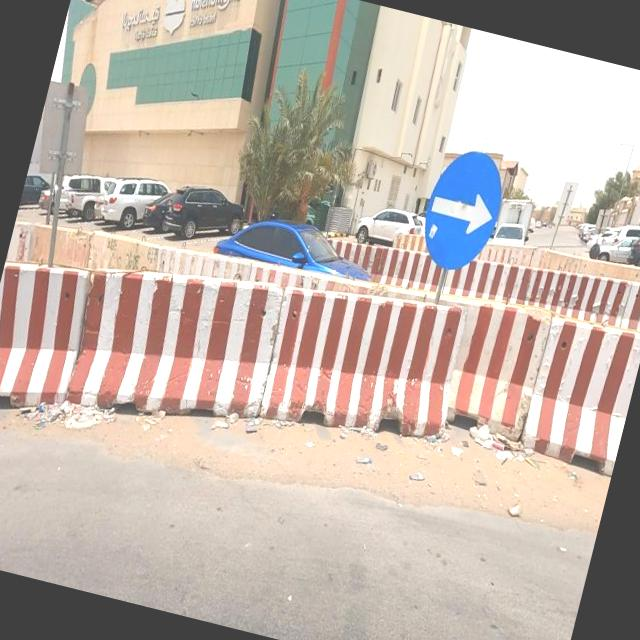debris: (0, 317, 164, 505), (413, 368, 583, 518), (168, 370, 312, 499), (316, 390, 427, 508), (462, 447, 564, 566), (376, 427, 458, 520), (400, 406, 467, 469)
